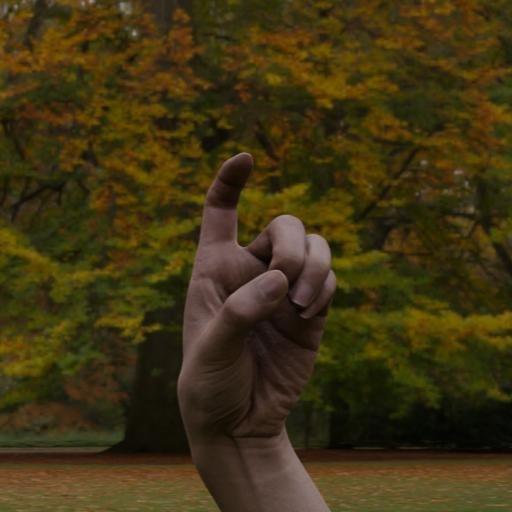X: (158, 147, 356, 512)
